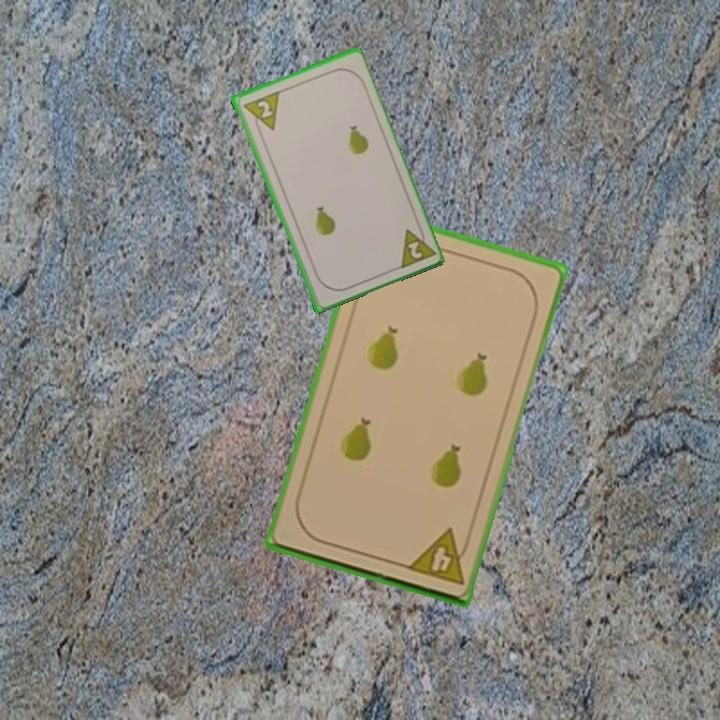2p: (394, 220, 437, 272), (239, 88, 282, 137)
4p: (403, 525, 474, 588)
